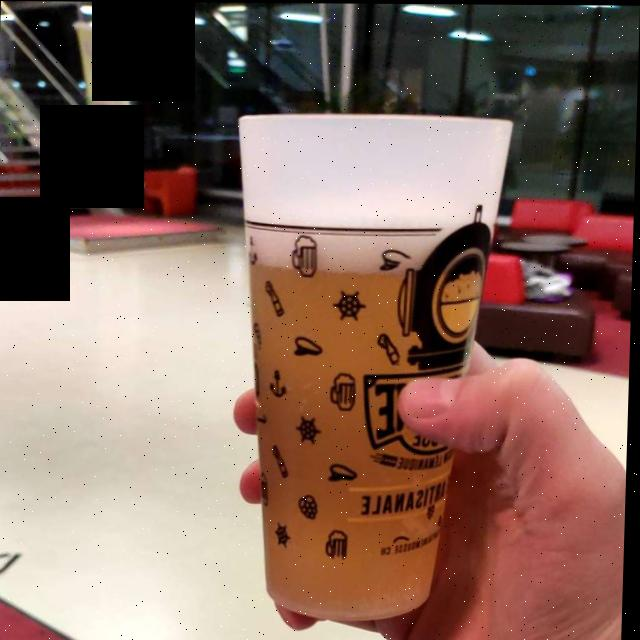beer: (246, 118, 503, 611)
